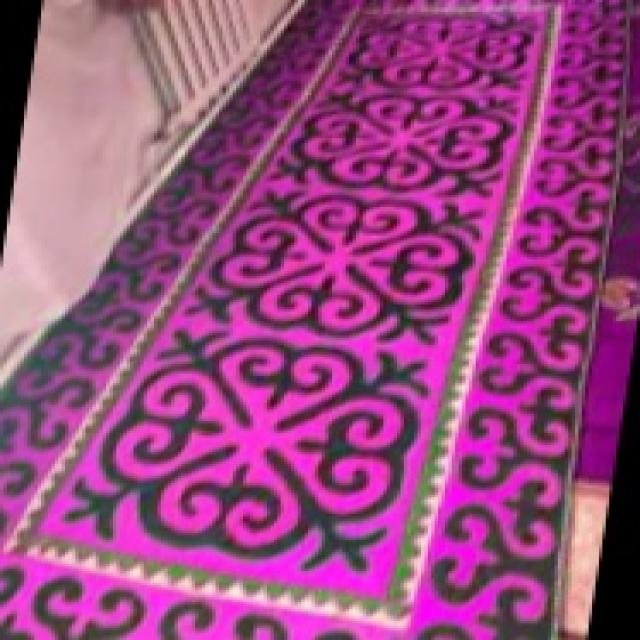Unity: (46, 328, 451, 588), (170, 182, 501, 350), (277, 80, 525, 192), (344, 11, 536, 87)
